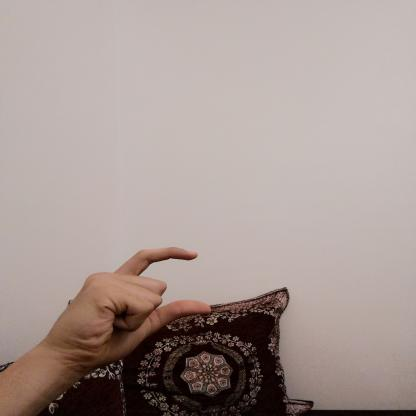DELL: (40, 237, 223, 376)
